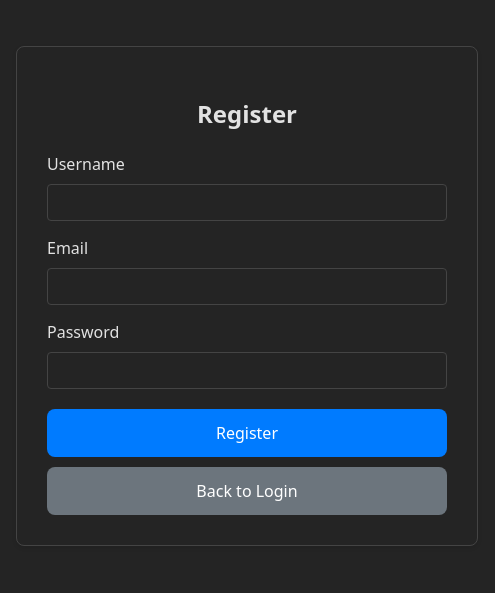
Scenario: RegisterPage › displays error message when registration fails
The width and height of the screenshot is (495, 593).
Type "existinguser" into the field labelled "Username" at (247, 203), box top-left (47, 184), bottom-right (447, 222)
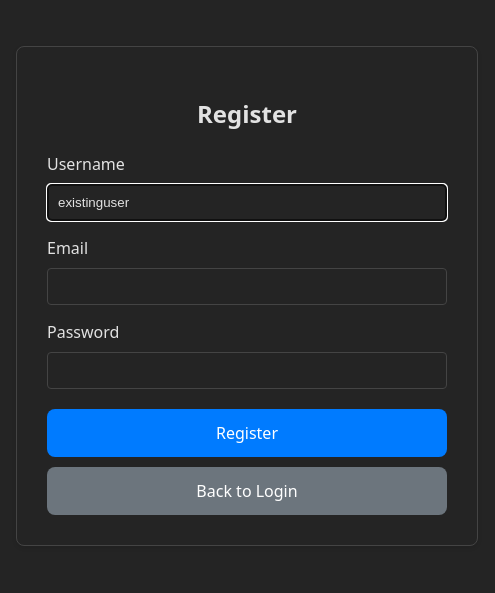
Type "test@example.com" into the field labelled "Email" at (247, 287), box top-left (47, 268), bottom-right (447, 306)
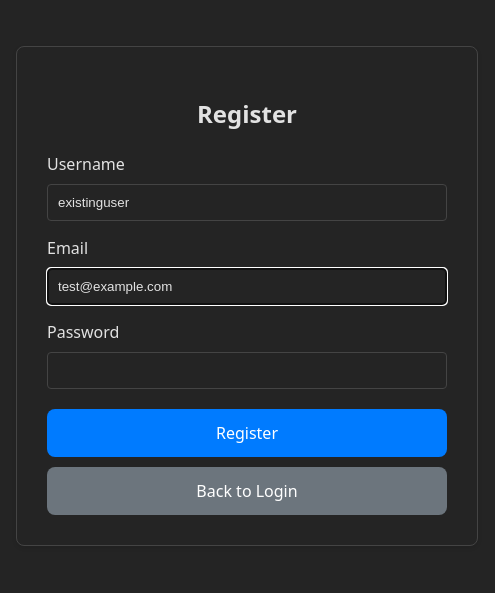
Type "password123" into the password field labelled "Password" at (247, 371), box top-left (47, 352), bottom-right (447, 390)
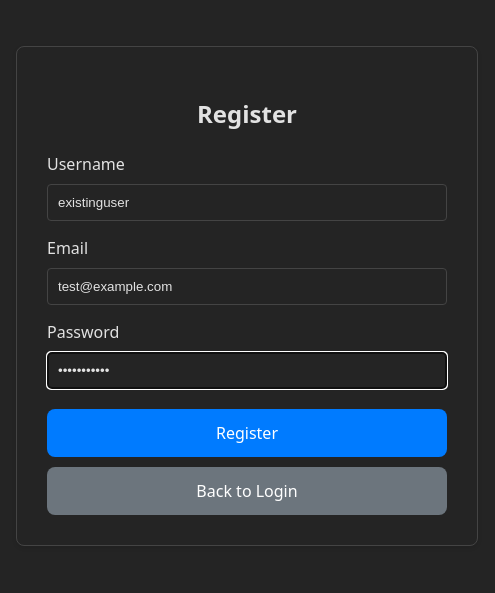
Click the button "Register" at (247, 434), box top-left (47, 410), bottom-right (447, 458)
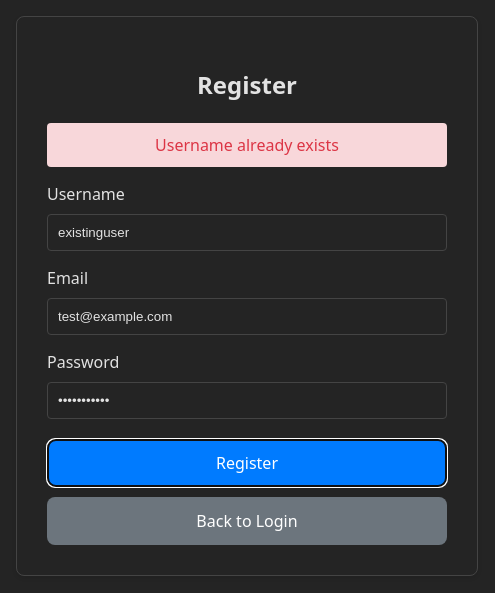
Check: the text "Username already exists" is shown, box top-left (47, 123), bottom-right (447, 167)
